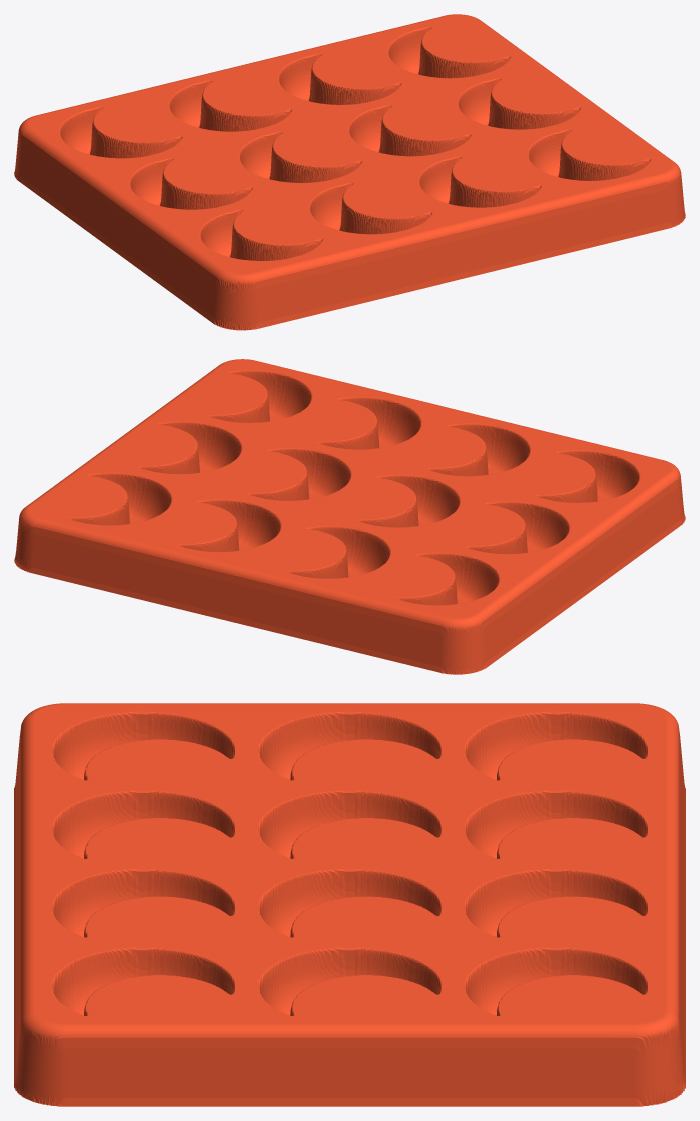
Rendered from mold.glb.
3 views of the same model, one above another, from view 1: azimuth 30°, elevation 25°; view 2: azimuth 150°, elevation 25°; view 3: azimuth 270°, elevation 25° (orthographic). The views are drawn at different scales.
Visible parts, largest first — view 1: geometry_0; view 2: geometry_0; view 3: geometry_0.
Part boxes in pixels (x1=…): geometry_0: x1=14, y1=14, x2=685, y2=330; geometry_0: x1=14, y1=359, x2=685, y2=674; geometry_0: x1=14, y1=703, x2=685, y2=1106.
Bounding box in the file's own units: 0.1413 × 0.0145 × 0.1192.
